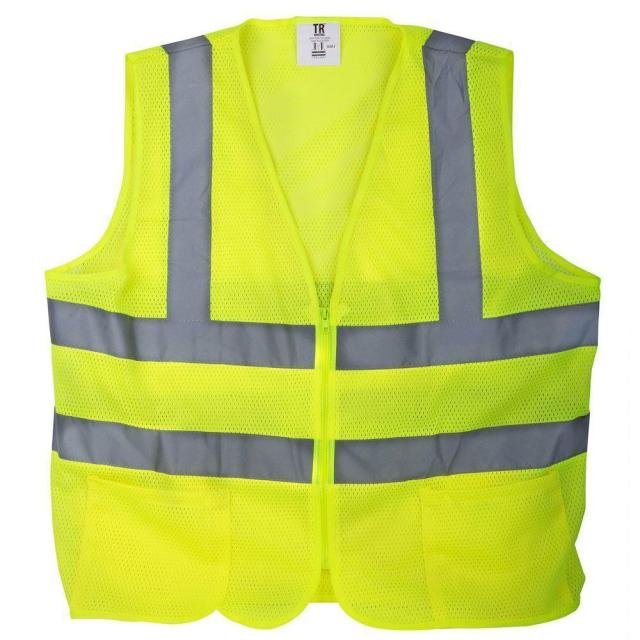Vest: (41, 11, 603, 630)
